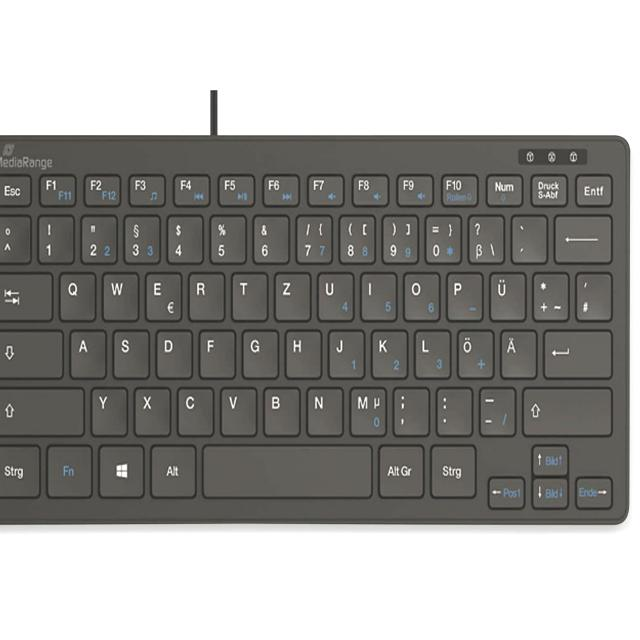0: (422, 211, 462, 263)
1: (35, 210, 73, 262)
2: (78, 211, 116, 263)
3: (120, 211, 160, 263)
4: (163, 211, 201, 262)
5: (206, 210, 244, 262)
6: (249, 210, 287, 262)
7: (294, 211, 332, 263)
8: (337, 212, 375, 263)
9: (380, 212, 418, 263)
a: (67, 325, 105, 377)
accent: (508, 211, 546, 261)
ae: (497, 325, 535, 377)
alt-left: (148, 441, 196, 497)
altgr-right: (376, 441, 424, 497)
b: (260, 382, 298, 434)
c: (174, 383, 212, 434)
caret: (0, 210, 28, 261)
comma: (390, 382, 428, 434)
d: (152, 325, 190, 377)
del: (552, 210, 612, 262)
e: (142, 268, 180, 320)
enter: (541, 325, 611, 377)
f: (196, 326, 234, 376)
g: (239, 326, 277, 377)
h: (282, 325, 320, 377)
hash: (573, 268, 611, 320)
i: (357, 268, 395, 320)
j: (325, 325, 363, 377)
k: (368, 325, 406, 377)
keyboard: (0, 133, 631, 527)
l: (411, 326, 449, 377)
m: (348, 383, 386, 435)
minus: (476, 383, 514, 435)
n: (303, 382, 341, 434)
o: (400, 268, 438, 320)
oe: (454, 326, 492, 378)
p: (443, 268, 481, 320)
plus: (530, 268, 568, 320)
point: (433, 383, 471, 433)
q: (56, 268, 94, 320)
r: (185, 267, 223, 319)
s: (110, 326, 148, 377)
shift-left: (0, 382, 84, 435)
shift-lock: (0, 325, 62, 377)
shift-right: (521, 382, 612, 436)
space: (202, 439, 372, 498)
ss: (464, 210, 502, 262)
strg-left: (0, 440, 39, 496)
strg-right: (428, 441, 476, 497)
t: (228, 267, 266, 319)
tab: (1, 268, 51, 320)
u: (314, 268, 352, 320)
ue: (486, 268, 524, 320)
v: (218, 382, 256, 433)
w: (99, 267, 137, 319)
x: (131, 383, 169, 434)
y: (88, 383, 126, 434)
z: (271, 268, 309, 320)
